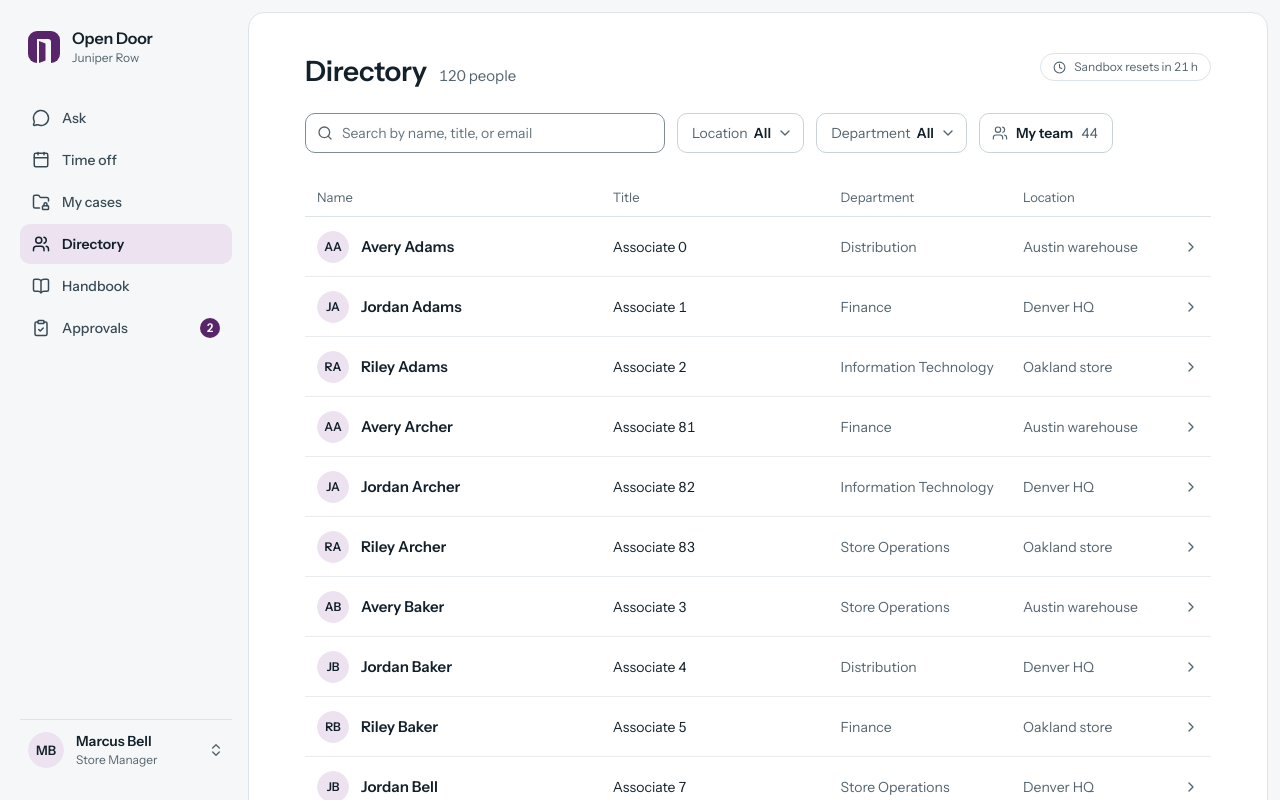
it: the filters › shows "Clear filters" only while a filter is on, and it resets them but keeps the search
This screenshot has width=1280, height=800.
Check: the button "Clear filters" is not shown
Type "a" into the search field at (485, 133), box 305,113 -> 665,153
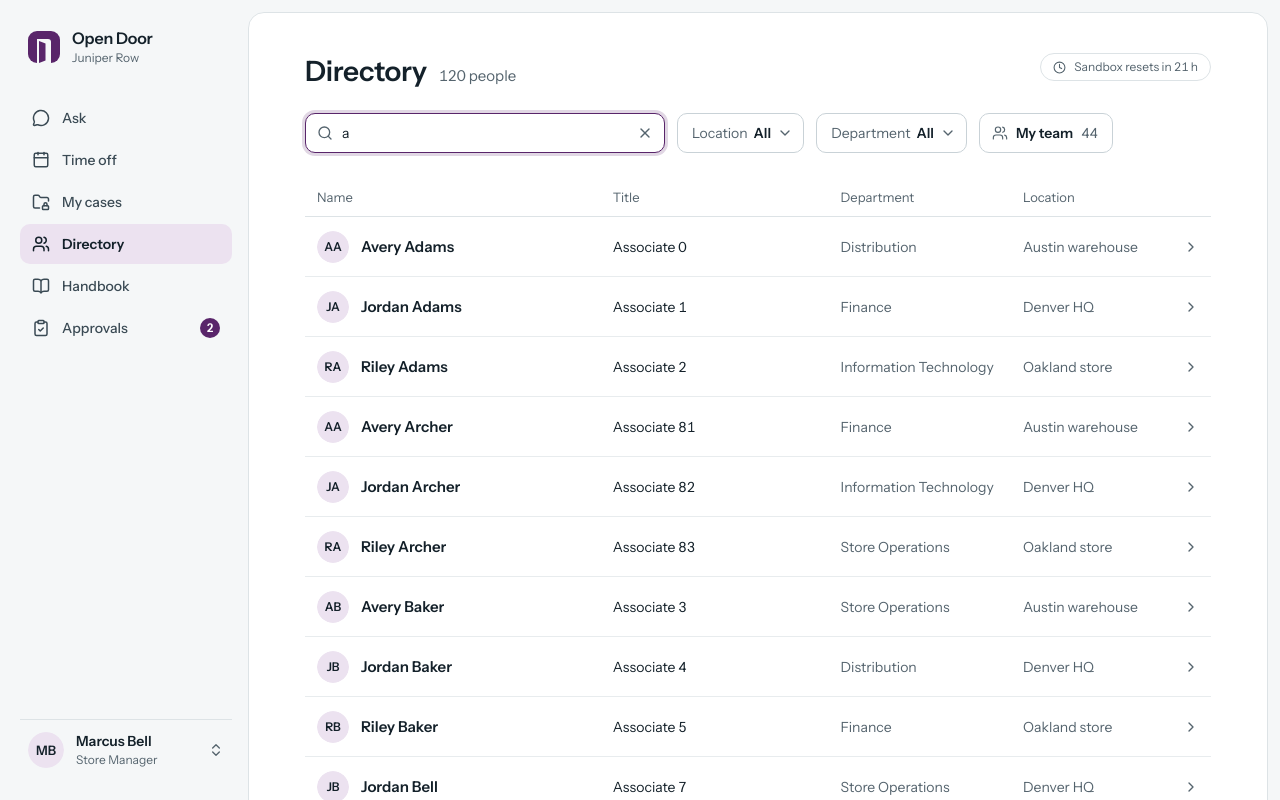
Check: the button "Clear filters" is not shown
Click the button "My team 44" at (1046, 133), box 979,113 -> 1113,153
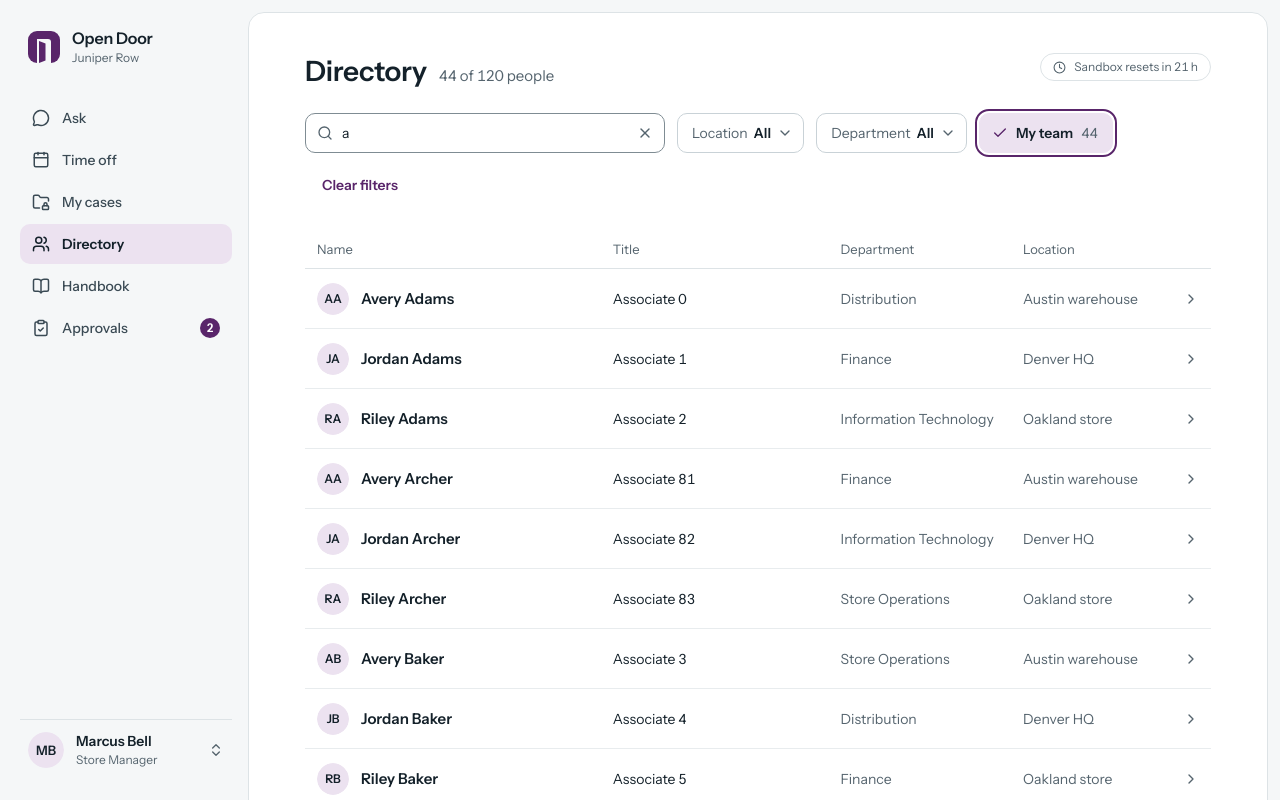
Click the button "Clear filters" at (360, 185), box 305,165 -> 415,205
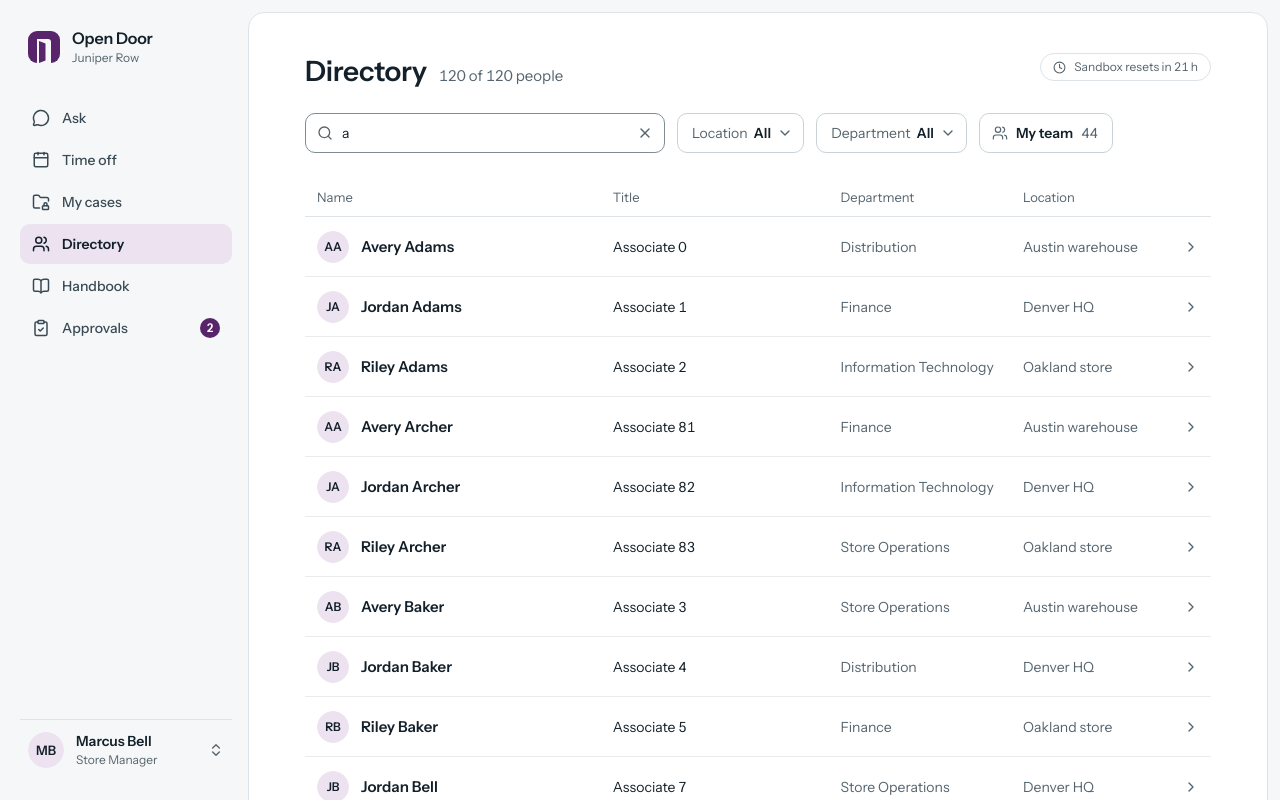
Check: the button "Clear filters" is gone
